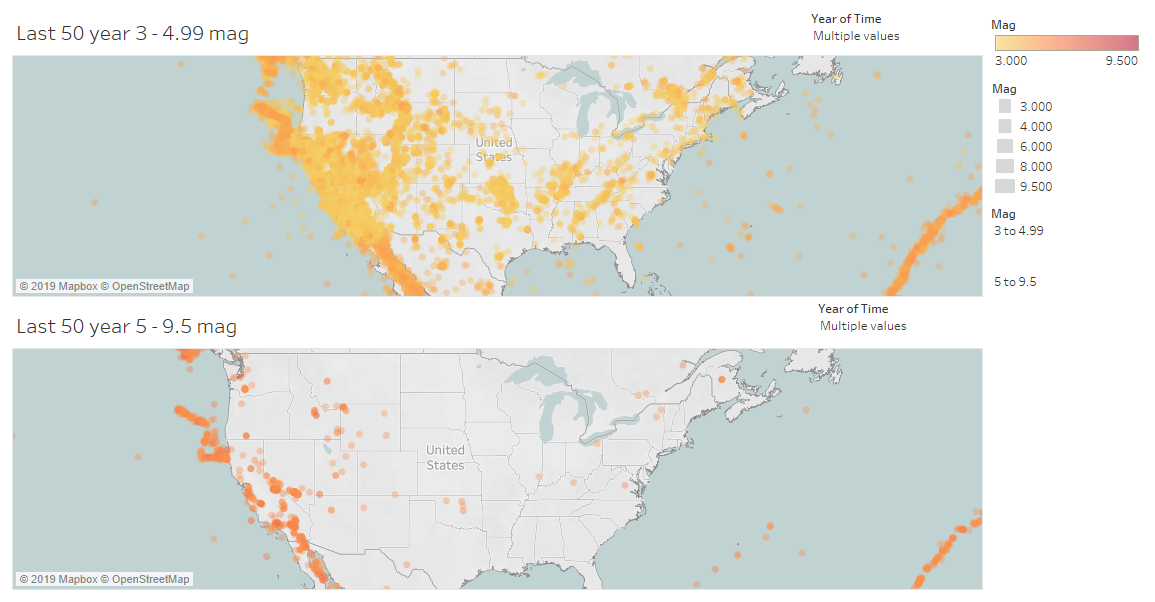

The page's visual inventory and layout, read from the dashboard file:
{"tool":"tableau","page":{"name":"Last 50 Year Eartquake","canvas":[1000,1000],"units":"permille","ordinal":3},"visuals":[{"type":"worksheet","title":"Last 50 year 3 - 4.99 mag","mark":"Multipolygon","rows":["lon"],"cols":["lat"],"box":[6.9,13.3,847.6,486.7]},{"type":"legend","title":"Last 50 year 3 - 4.99 mag","param":"[federated.14g24vn1bp0nln18c534e06es7gj].[sum:mag:qk]","box":[854.5,13.3,138.5,108]},{"type":"filter","title":"Last 50 year 3 - 4.99 mag","param":"[federated.14g24vn1bp0nln18c534e06es7gj].[yr:time:ok]","box":[702.2,15,138.5,76.4]},{"type":"legend","title":"Last 50 year 3 - 4.99 mag","param":"[federated.14g24vn1bp0nln18c534e06es7gj].[sum:mag:qk]","box":[854.5,121.3,138.5,209.3]},{"type":"filter","title":"Last 50 year 3 - 4.99 mag","param":"[federated.14g24vn1bp0nln18c534e06es7gj].[none:mag:qk]","box":[854.5,330.6,138.5,114.6]},{"type":"filter","title":"Last 50 year 5 - 9.5 mag","param":"[federated.14g24vn1bp0nln18c534e06es7gj].[none:mag:qk]","box":[854.5,445.2,138.5,84.7]},{"type":"filter","title":"Last 50 year 5 - 9.5 mag","param":"[federated.14g24vn1bp0nln18c534e06es7gj].[yr:time:ok]","box":[708.2,496.7,138.5,74.8]},{"type":"worksheet","title":"Last 50 year 5 - 9.5 mag","mark":"Multipolygon","rows":["lon"],"cols":["lat"],"box":[6.9,500,847.6,486.7]}]}

Visuals, with their boxes on the dashboard's canvas, which has no fixed pixel size, in thousandths of its width and height (x1, y1, x2, y2). These are canvas units, not pixel positions in the 1155x602 screenshot, which may show the page scaled, cropped or inside an application window:
"Last 50 year 3 - 4.99 mag" worksheet (Multipolygon marks): detection(7, 13, 854, 500)
"Last 50 year 3 - 4.99 mag" legend: detection(854, 13, 993, 121)
"Last 50 year 3 - 4.99 mag" filter: detection(702, 15, 841, 91)
"Last 50 year 3 - 4.99 mag" legend: detection(854, 121, 993, 331)
"Last 50 year 3 - 4.99 mag" filter: detection(854, 331, 993, 445)
"Last 50 year 5 - 9.5 mag" filter: detection(854, 445, 993, 530)
"Last 50 year 5 - 9.5 mag" filter: detection(708, 497, 847, 572)
"Last 50 year 5 - 9.5 mag" worksheet (Multipolygon marks): detection(7, 500, 854, 987)
